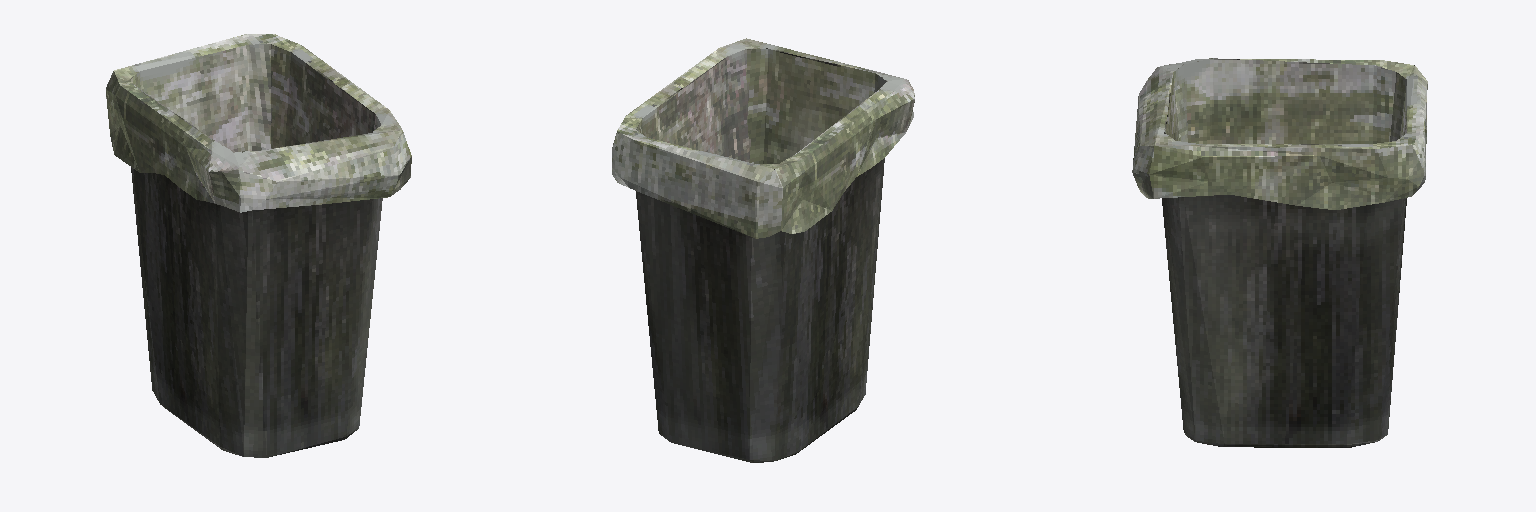
3 views of the same model, side by side, from view 1: azimuth 30°, elevation 25°; view 2: azimuth 150°, elevation 25°; view 3: azimuth 270°, elevation 25° (orthographic).
Visible parts, largest first — view 1: trash_can; view 2: trash_can; view 3: trash_can.
Part boxes in pixels (x1,y1,x2,y2): trash_can: (106,34,411,457); trash_can: (612,38,914,462); trash_can: (1132,58,1427,447).
Size of the model in its own units: 0.4177 by 0.6567 by 0.5489.
Materials: 1 (1 with a texture image).